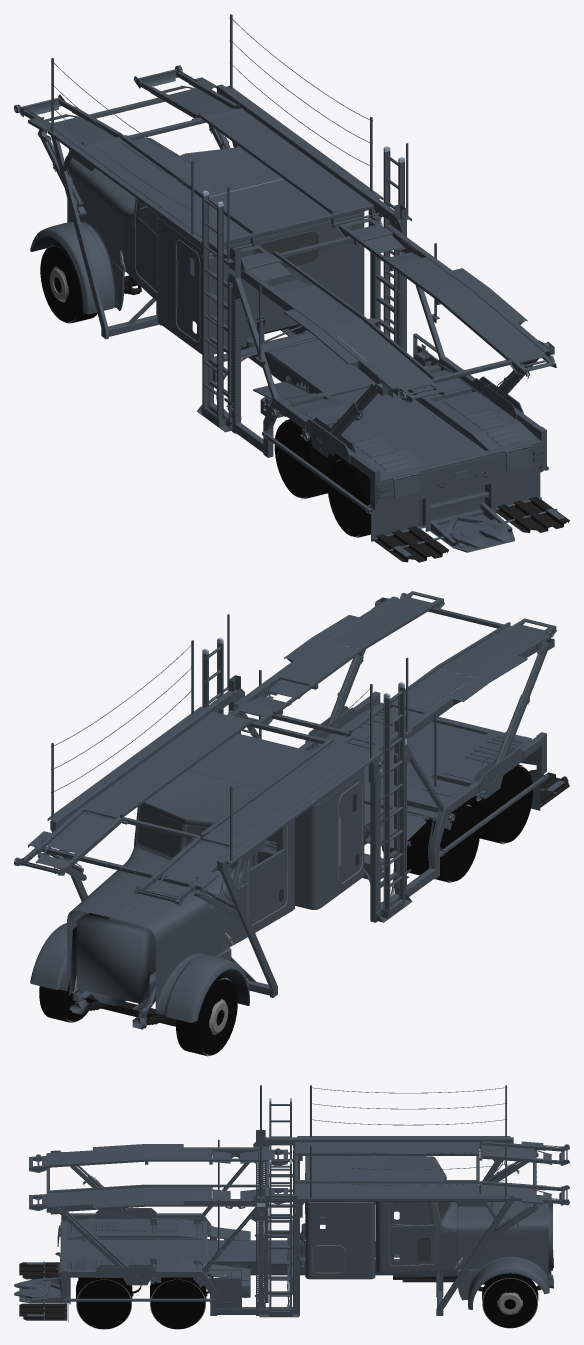
Rendered from p389_cottrell_cx09__tractor_v0.1.glb.
3 views of the same model, one above another, from view 1: azimuth 30°, elevation 25°; view 2: azimuth 150°, elevation 25°; view 3: azimuth 270°, elevation 25° (orthographic). The views are drawn at different scales.
Visible parts, largest first — view 1: piece_16.001, piece_22, piece_1, piece_9, piece_14.002, piece_10.002, piece_39, piece_89, piece_88, piece_0, piece_0.009_wheel_r_0_0 (×2), piece_59 (+12 smaller); view 2: piece_16.001, piece_22, piece_9, piece_1, piece_12, piece_14.002, piece_0, piece_39, piece_10.002, piece_0.009_wheel_r_0_0 (×2), piece_8, piece_12.002 (+14 smaller); view 3: piece_16.001, piece_22, piece_1, piece_9, piece_14.002, piece_0.009_wheel_r_1_0 (×2), piece_0, piece_8, piece_89, piece_10.002, piece_6.006_wheel_f_1_0, piece_12 (+16 smaller).
Boxes of the visible parts, x1,y1,x2,y2 form: piece_16.001: [44, 83, 543, 498]; piece_22: [47, 14, 546, 510]; piece_1: [157, 179, 364, 354]; piece_9: [30, 138, 179, 314]; piece_14.002: [241, 217, 556, 402]; piece_10.002: [29, 77, 555, 472]; piece_39: [202, 151, 404, 419]; piece_89: [279, 367, 537, 476]; piece_88: [212, 282, 548, 552]; piece_0: [124, 147, 282, 301]; piece_0.009_wheel_r_0_0 (×2): [274, 421, 366, 536]; piece_59: [373, 496, 569, 562]; piece_16.001: [44, 598, 543, 881]; piece_22: [47, 614, 546, 997]; piece_9: [30, 860, 249, 1022]; piece_1: [188, 733, 364, 909]; piece_12: [69, 814, 383, 1029]; piece_14.002: [228, 591, 556, 751]; piece_0: [134, 770, 294, 946]; piece_39: [202, 642, 404, 911]; piece_10.002: [29, 591, 555, 896]; piece_0.009_wheel_r_0_0 (×2): [441, 766, 532, 881]; piece_8: [126, 825, 286, 924]; piece_12.002: [17, 808, 237, 903]; piece_16.001: [47, 1141, 534, 1284]; piece_22: [60, 1085, 513, 1315]; piece_1: [300, 1156, 375, 1279]; piece_9: [457, 1193, 549, 1309]; piece_14.002: [29, 1139, 287, 1214]; piece_0.009_wheel_r_1_0 (×2): [77, 1279, 204, 1329]; piece_0: [375, 1156, 456, 1272]; piece_8: [390, 1202, 456, 1265]; piece_89: [66, 1218, 202, 1280]; piece_10.002: [29, 1141, 560, 1271]; piece_6.006_wheel_f_1_0: [483, 1278, 536, 1327]; piece_12: [209, 1203, 553, 1288].
Bounding box in the file's own units: 2.75 × 3.74 × 10.13.
